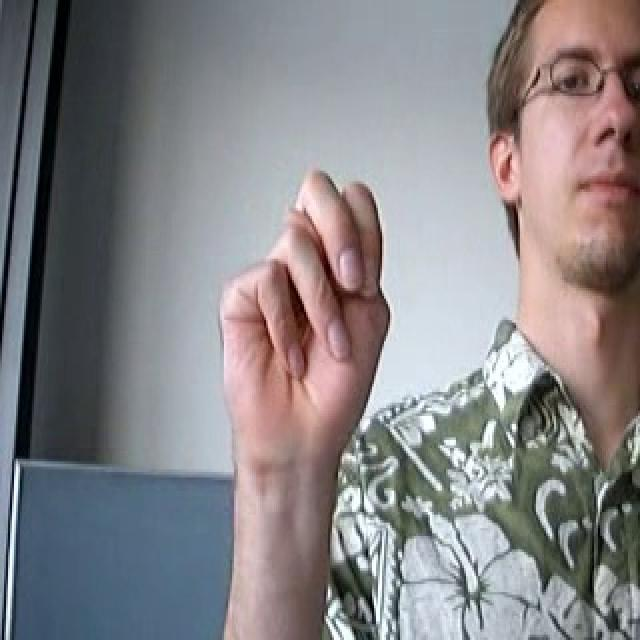N: (210, 158, 400, 473)
